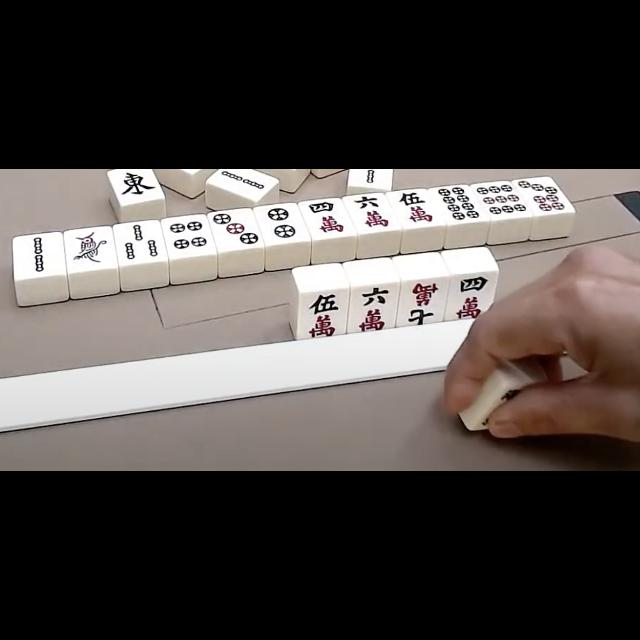b1: (66, 229, 114, 269)
b2: (13, 234, 62, 276), (214, 169, 272, 197)
b3: (118, 222, 162, 264)
c4: (448, 273, 494, 321), (302, 200, 350, 238)
c5: (299, 290, 347, 338), (394, 190, 438, 228)
c6: (348, 284, 396, 332), (351, 194, 394, 232)
c7: (400, 278, 446, 326)
d2: (260, 203, 304, 243)
d3: (212, 209, 262, 249)
d4: (166, 215, 214, 255)
d7: (522, 178, 566, 214)
d8: (438, 186, 478, 222)
d9: (476, 183, 526, 219)
we: (114, 170, 156, 202)
